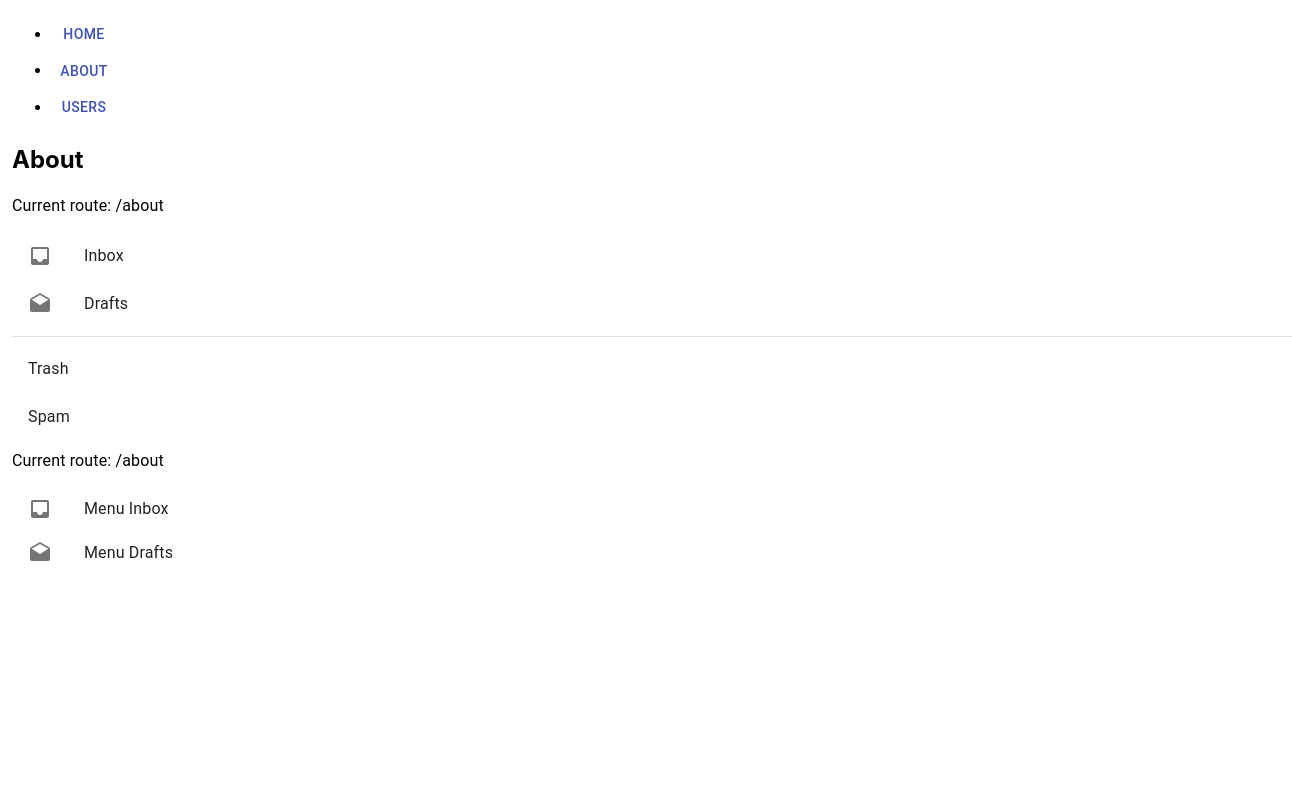
it: My First Test › navigates to home
Click the button with test id "home-link" at (84, 34), box [63, 26, 104, 42]
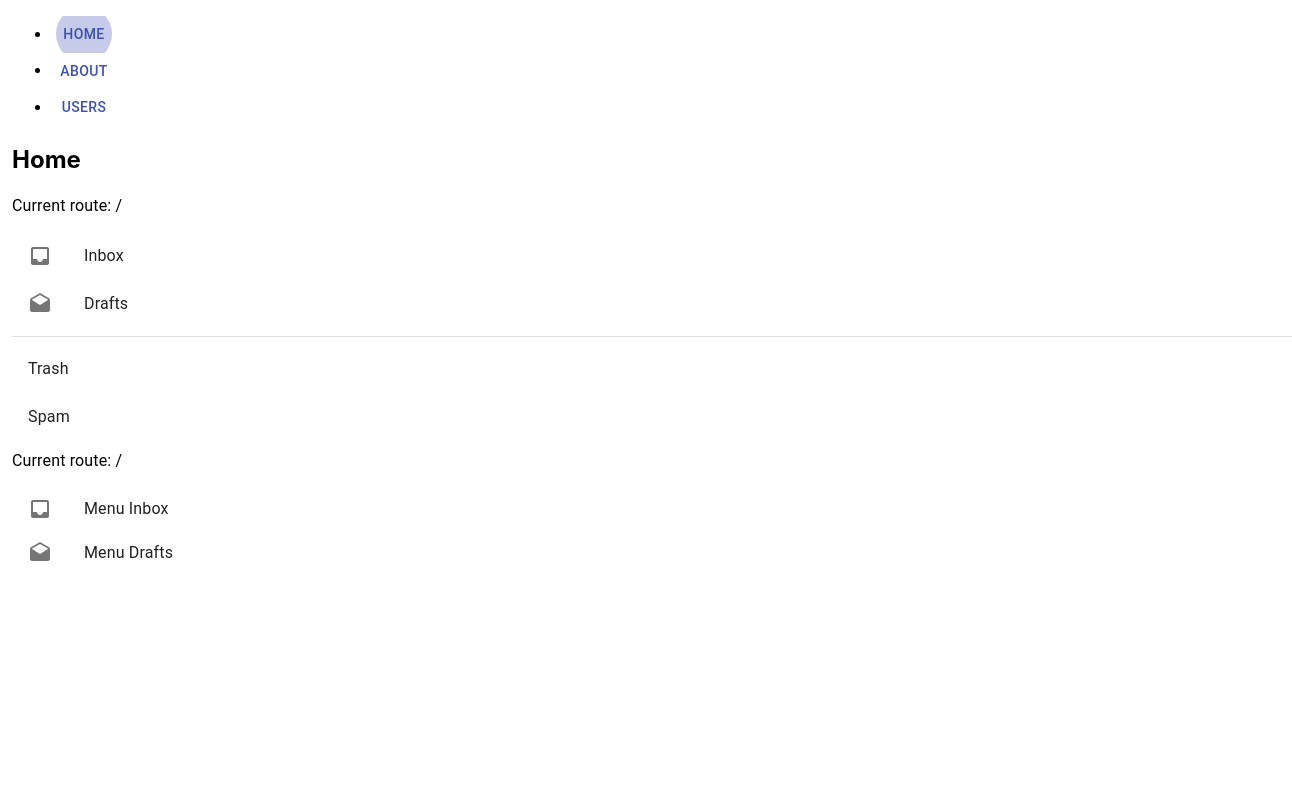
Expected: the heading with test id "home" reads "Home", [12, 145, 81, 174]
